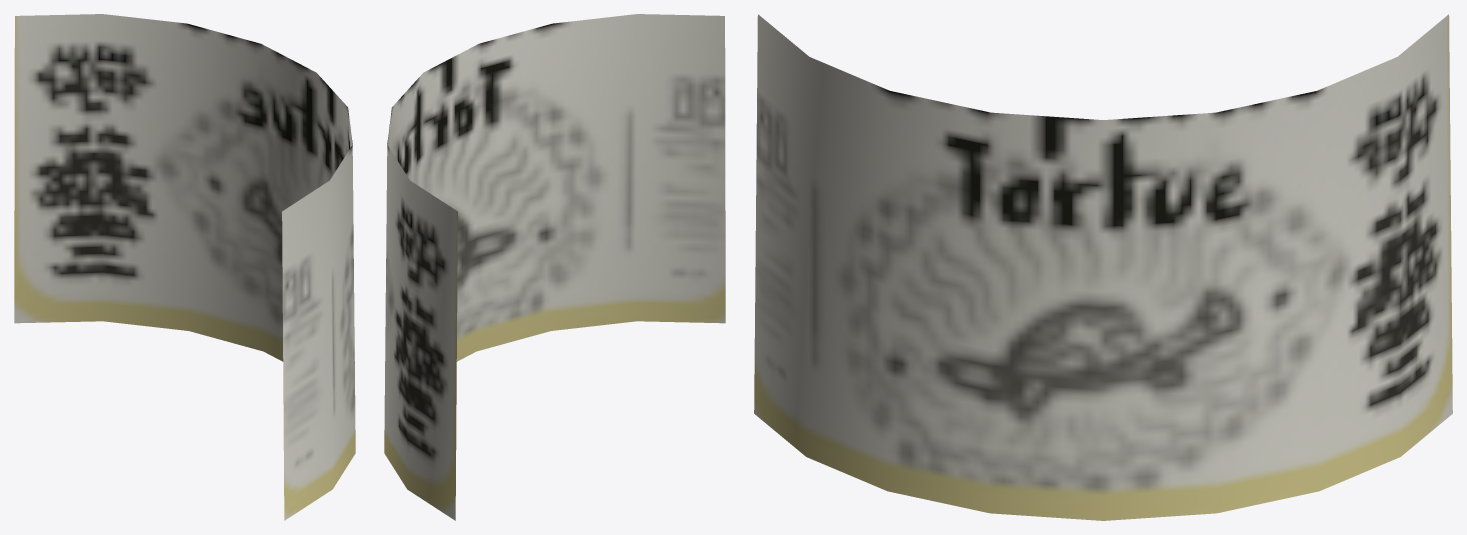
The model's file is Mesh_Bottle03Label03.fbx.
3 views of the same model, side by side, from view 1: azimuth 30°, elevation 25°; view 2: azimuth 150°, elevation 25°; view 3: azimuth 270°, elevation 25° (orthographic). The views are drawn at different scales.
Visible parts, largest first — view 1: Label02Bottle04; view 2: Label02Bottle04; view 3: Label02Bottle04.
Part boxes in pixels (left/top/right/bottom): Label02Bottle04: left=14, top=14, right=355, bottom=520; Label02Bottle04: left=384, top=14, right=725, bottom=520; Label02Bottle04: left=754, top=14, right=1452, bottom=520.
Size of the model in its own units: 5.67 by 9.8 by 15.55.
